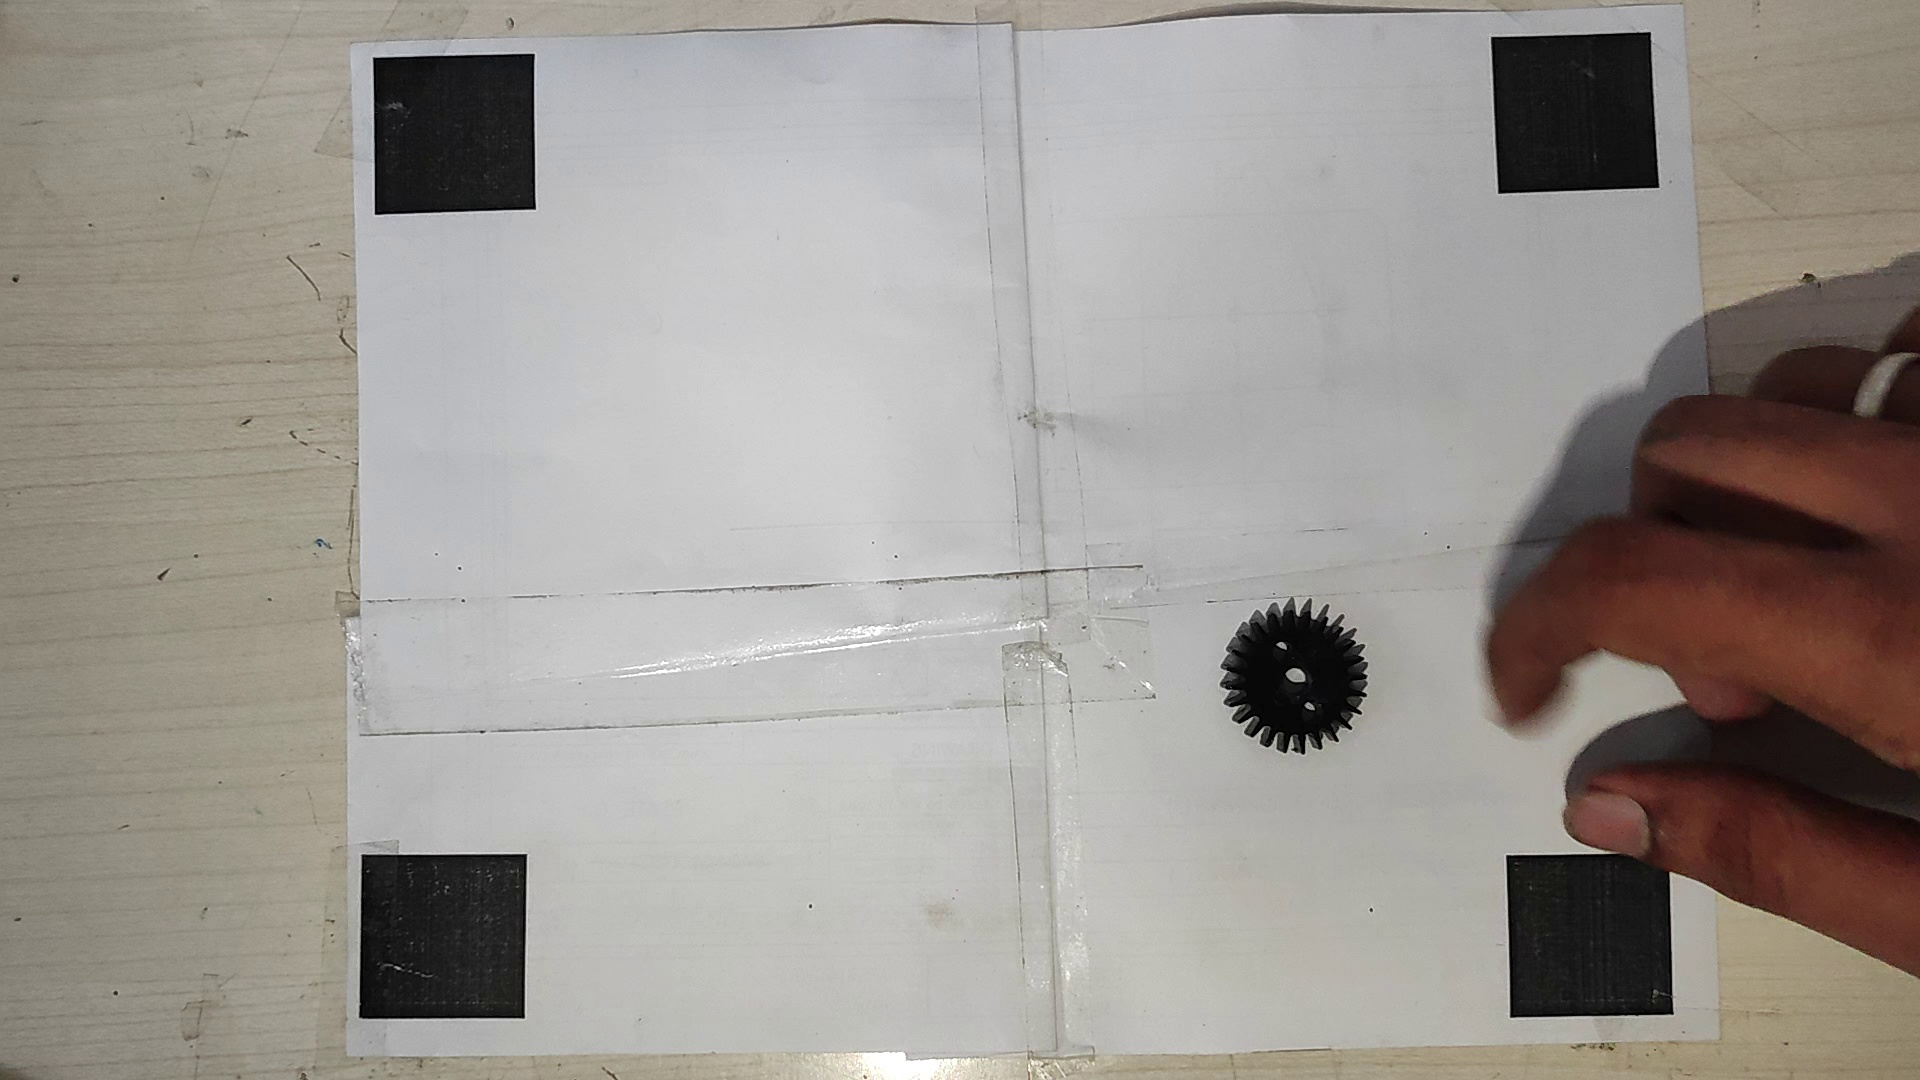Gear: (1215, 603, 1370, 746)
